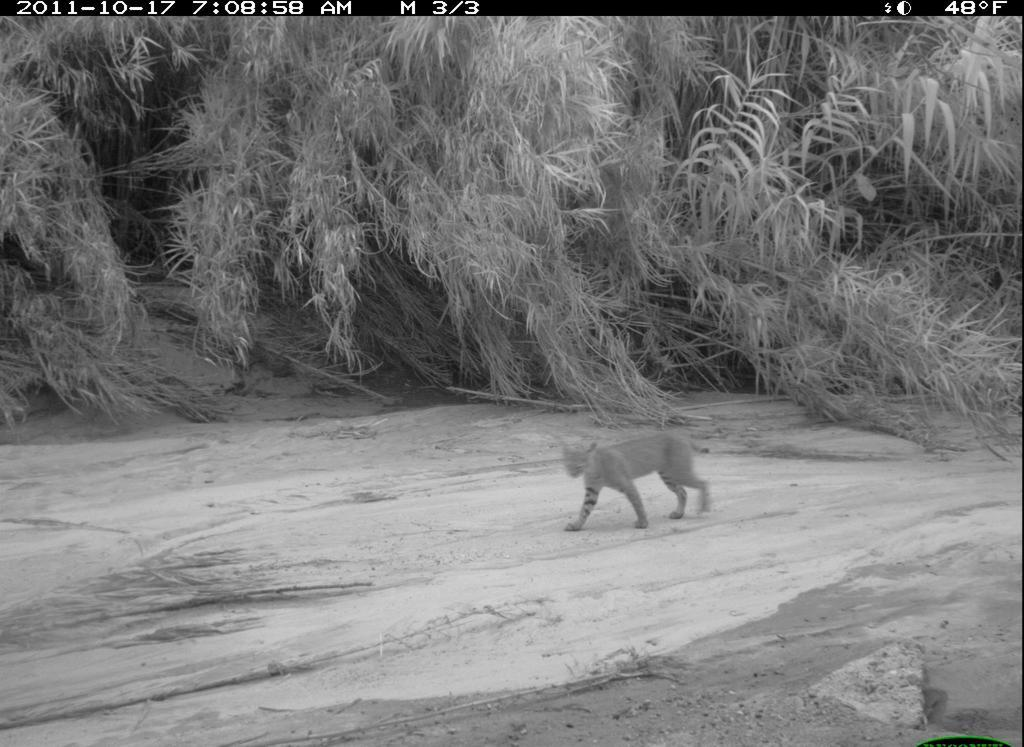bobcat: (550, 428, 726, 545)
